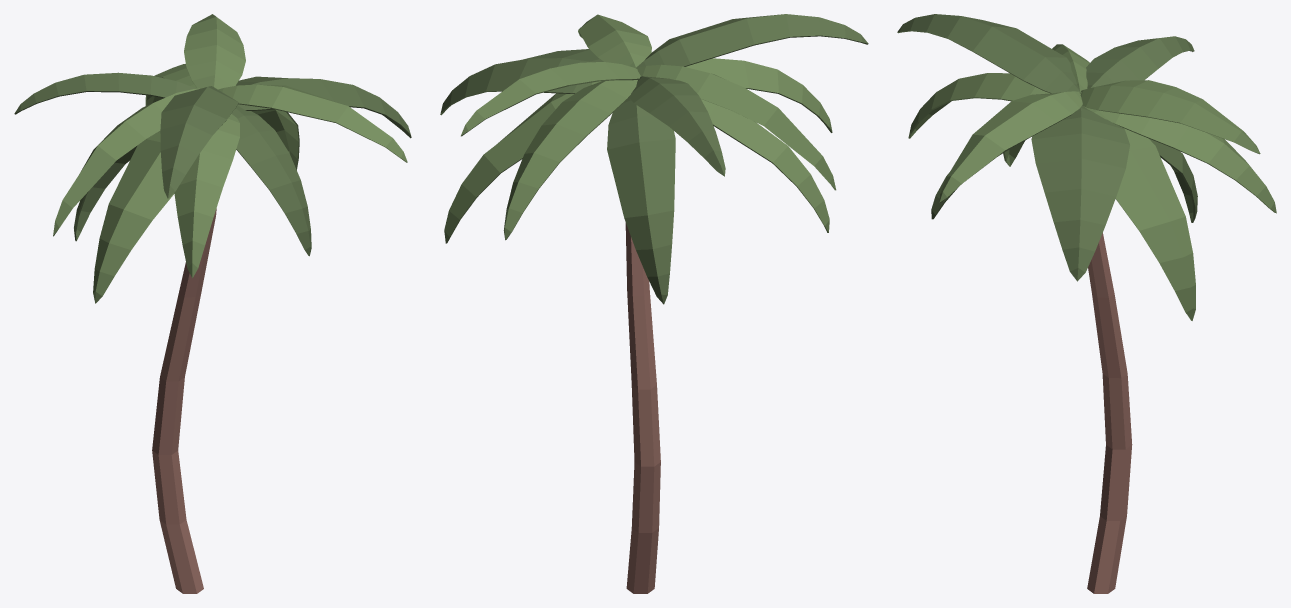
File: palm_3.glb
3 views of the same model, side by side, from view 1: azimuth 30°, elevation 25°; view 2: azimuth 150°, elevation 25°; view 3: azimuth 270°, elevation 25° (orthographic).
Parts seen in each view (by area): view 1: palm_3; view 2: palm_3; view 3: palm_3.
Boxes of the visible parts, x1,y1,x2,y2 form: palm_3: (14, 14, 411, 593); palm_3: (440, 14, 868, 593); palm_3: (897, 14, 1276, 593).
Bounding box in the file's own units: 2.88 × 3.93 × 2.51.
